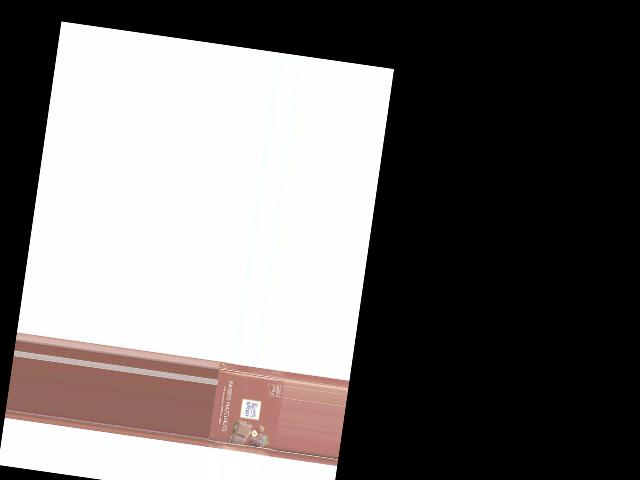chocolate: (206, 361, 286, 458)
